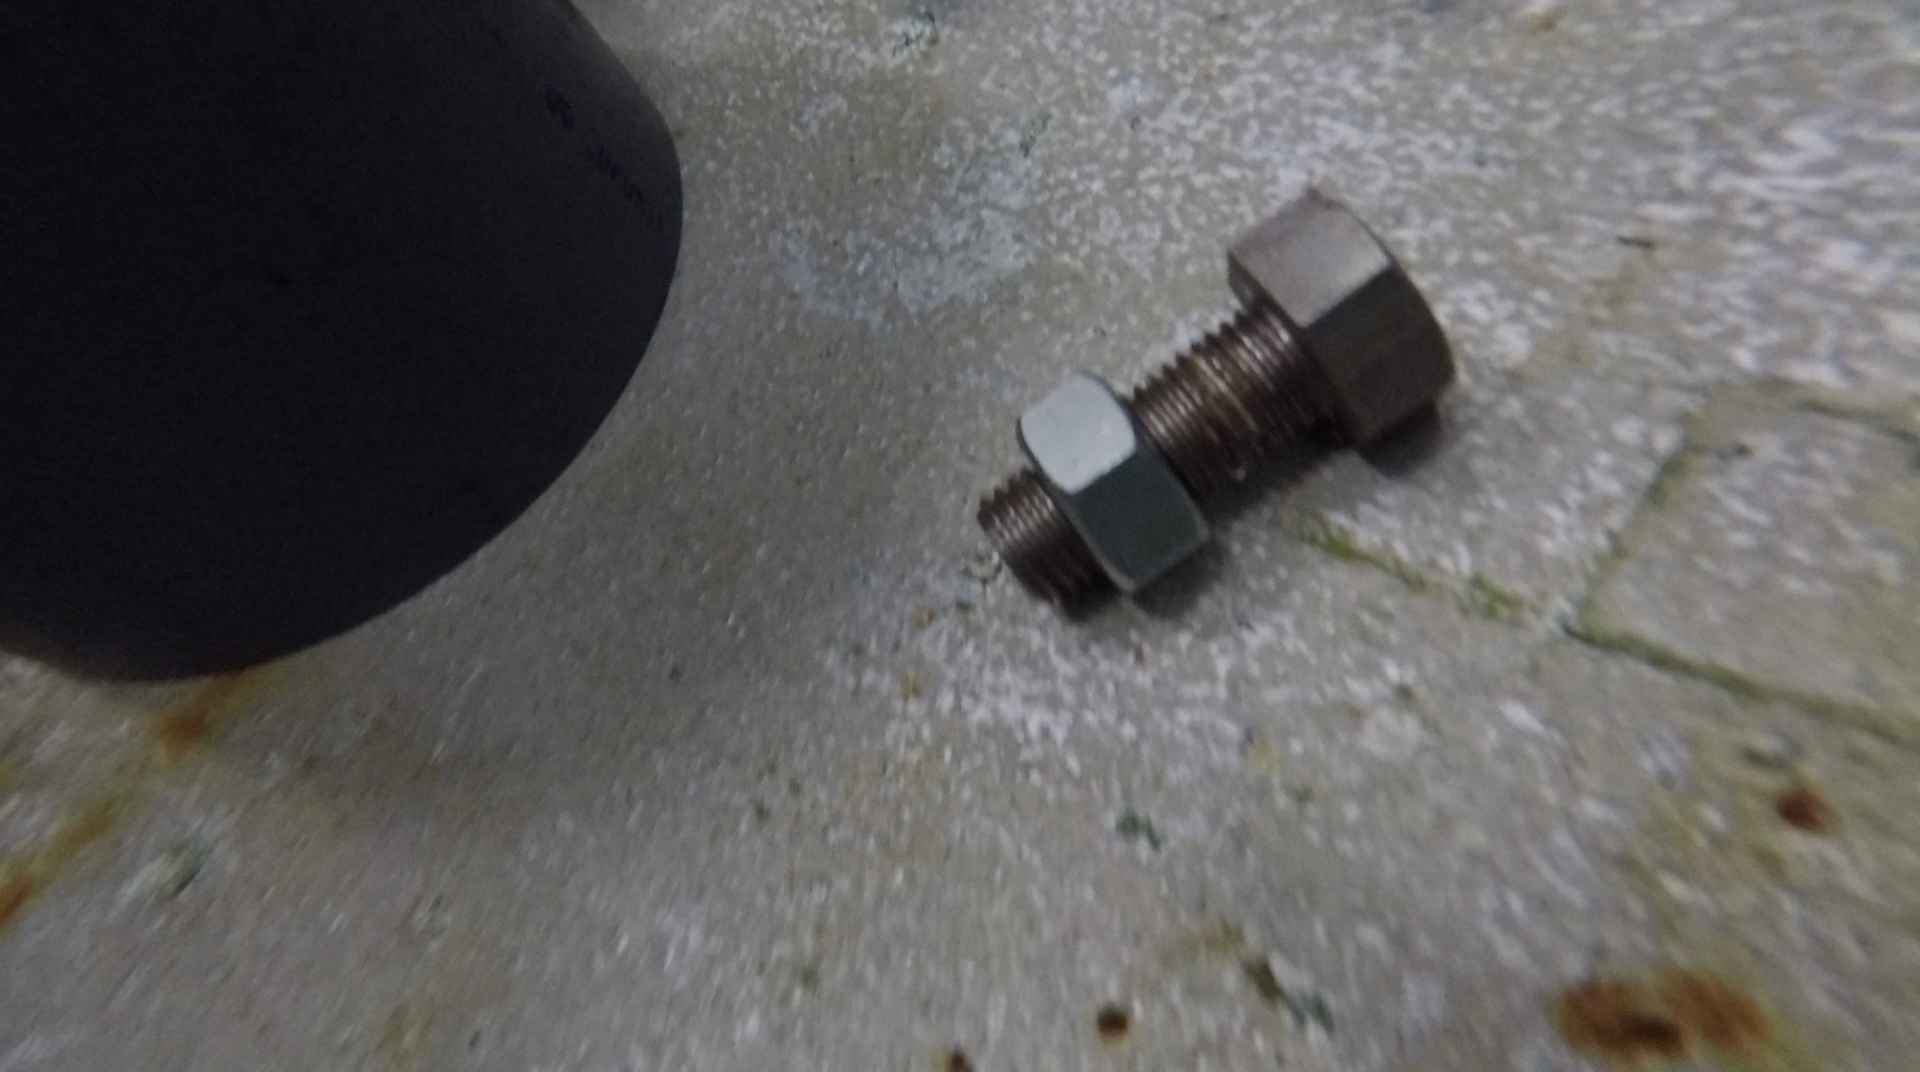bolt: (975, 182, 1457, 620)
nut: (1011, 364, 1212, 599)
pipe: (5, 1, 684, 686)
